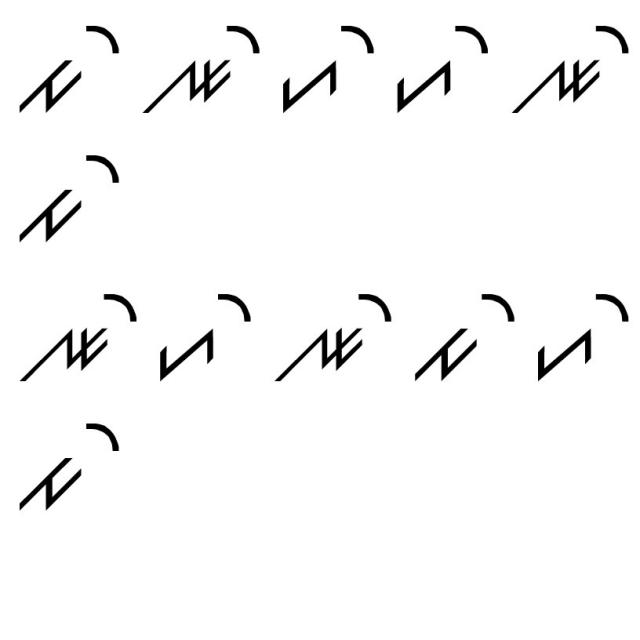hay: (389, 13, 493, 118), (532, 286, 632, 386), (276, 18, 378, 116), (154, 284, 252, 385)
mbay: (5, 16, 128, 118), (12, 415, 123, 519), (14, 146, 122, 246), (409, 290, 517, 385)
nday: (500, 16, 632, 117), (18, 279, 141, 385), (270, 282, 394, 385), (140, 19, 261, 117)
